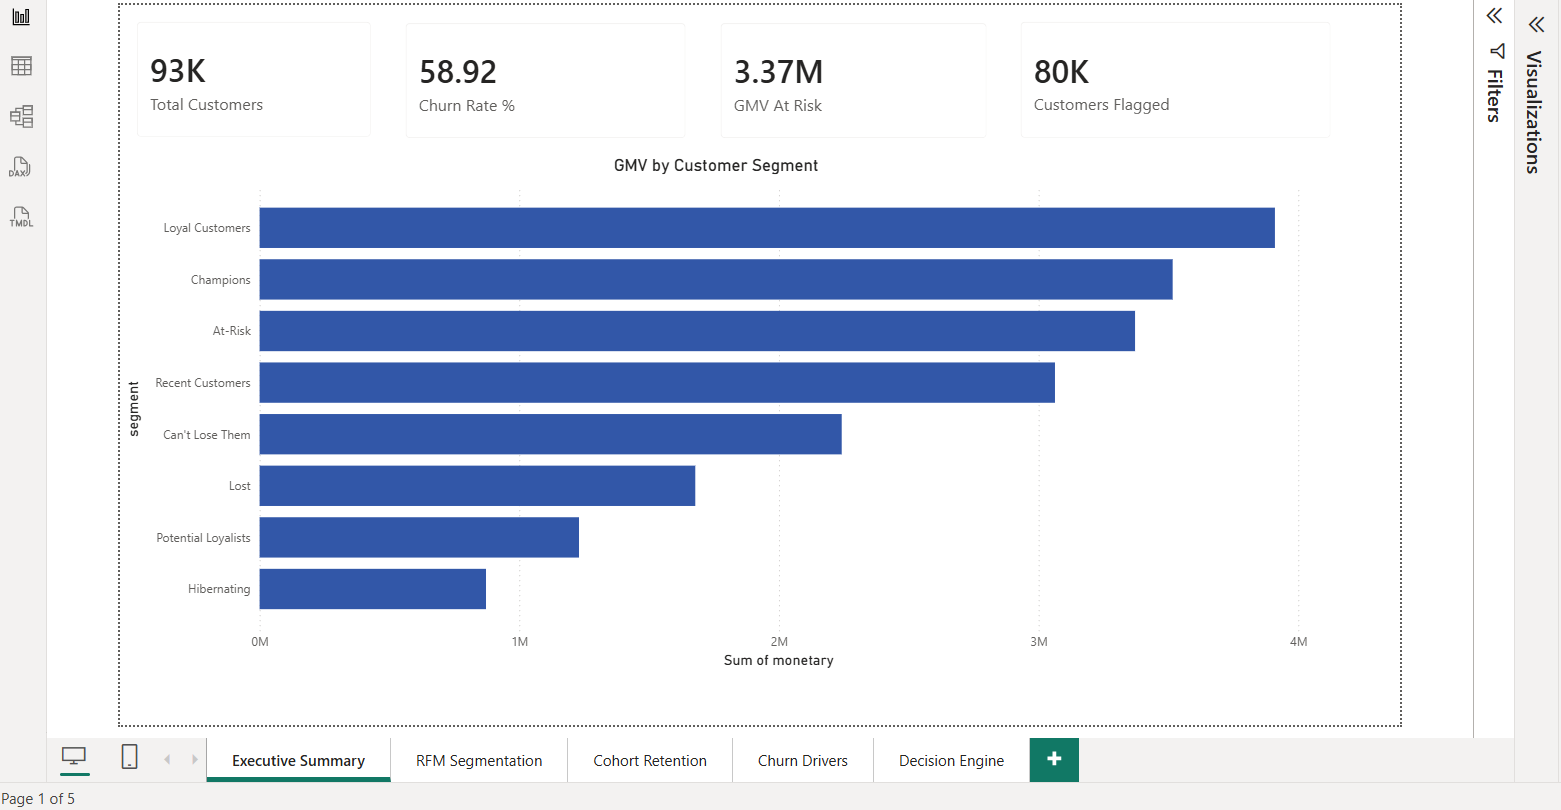

The page's visual inventory and layout, read from the dashboard file:
{"tool":"powerbi","page":{"name":"Executive Summary","canvas":[1280,720],"ordinal":0},"visuals":[{"type":"cardVisual","fields":{"Data":["cohort_retention.Total Customers"]},"box":[0,0,269,149.6],"z":0},{"type":"cardVisual","fields":{"Data":["cohort_retention.Churn Rate %"]},"box":[269,1.4,314.2,149.6],"z":1000},{"type":"cardVisual","fields":{"Data":["cohort_retention.GMV At Risk"]},"box":[583.2,1.4,300.5,149.6],"z":2000},{"type":"cardVisual","fields":{"Data":["cohort_retention.Customers Flagged"]},"box":[883.7,0,344.4,150.9],"z":3000},{"type":"clusteredBarChart","title":"GMV by Customer Segment","fields":{"Y":["Sum(customer_engine_output.monetary)"],"Category":["customer_engine_output.segment"]},"box":[0,150,1192.5,518.8],"z":4000}]}

Visuals, with their boxes on the page's 1280x720 design canvas (x1, y1, x2, y2). These are canvas units, not pixel positions in the 1561x810 screenshot, which may show the page scaled, cropped or inside an application window:
cardVisual - cohort_retention.Total Customers: detection(0, 0, 269, 150)
cardVisual - cohort_retention.Churn Rate %: detection(269, 1, 583, 151)
cardVisual - cohort_retention.GMV At Risk: detection(583, 1, 884, 151)
cardVisual - cohort_retention.Customers Flagged: detection(884, 0, 1228, 151)
"GMV by Customer Segment" clusteredBarChart: detection(0, 150, 1192, 669)
